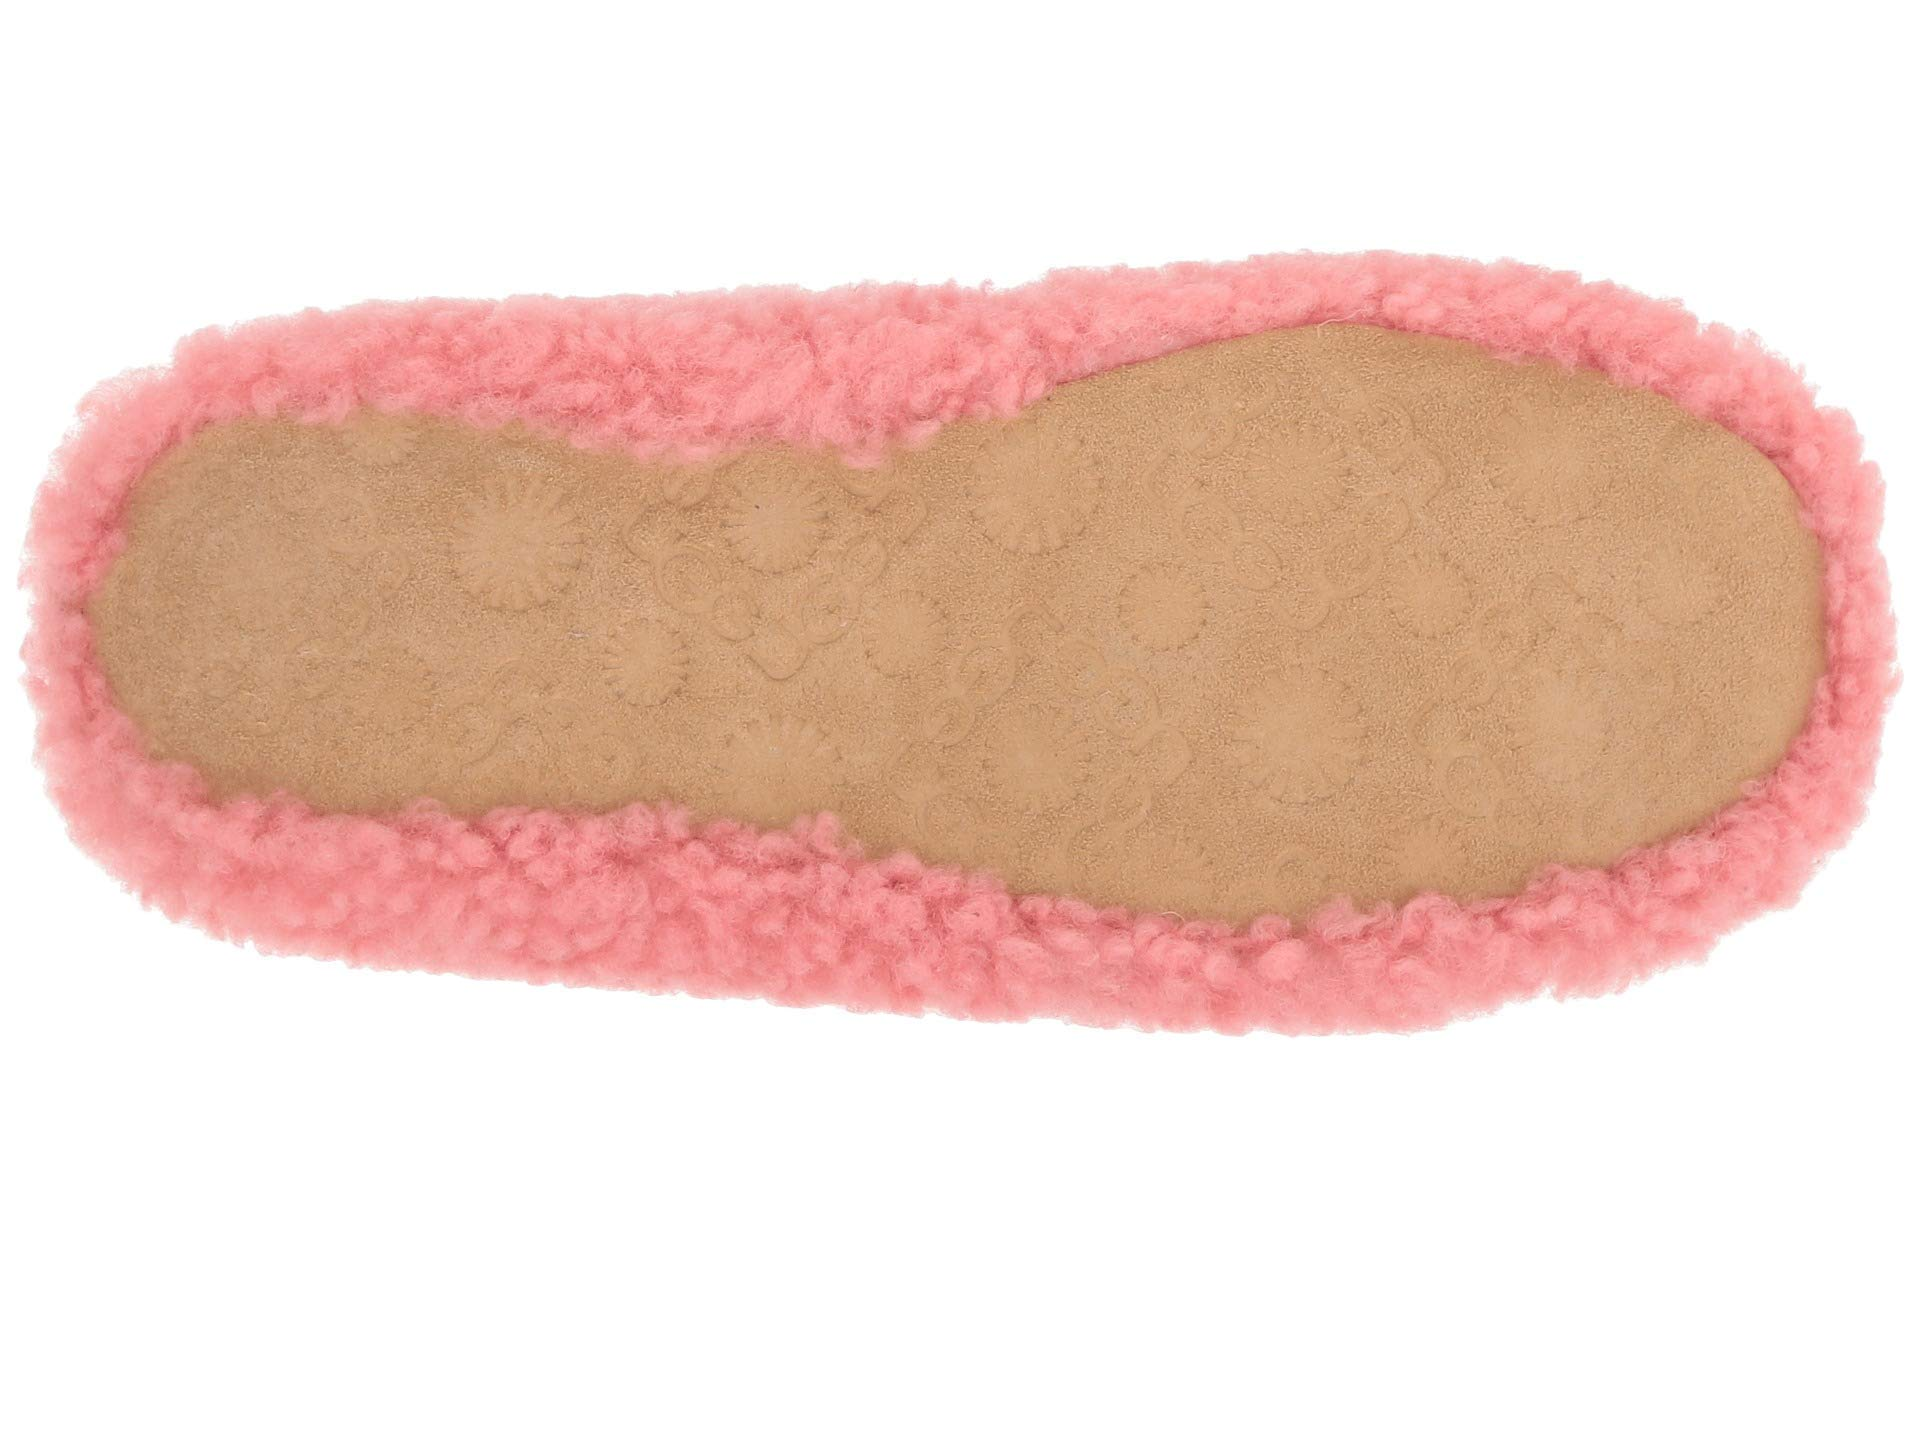circle: (1107, 365, 1711, 864), (206, 439, 792, 776), (875, 567, 1067, 790)
quad: (1107, 365, 1711, 864), (206, 439, 792, 776)
text: (1107, 365, 1711, 864), (206, 439, 792, 776), (875, 567, 1067, 790)
